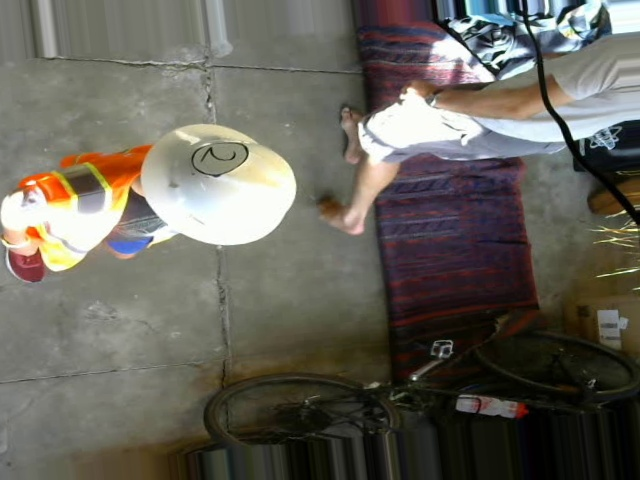two: (190, 138, 250, 177)
